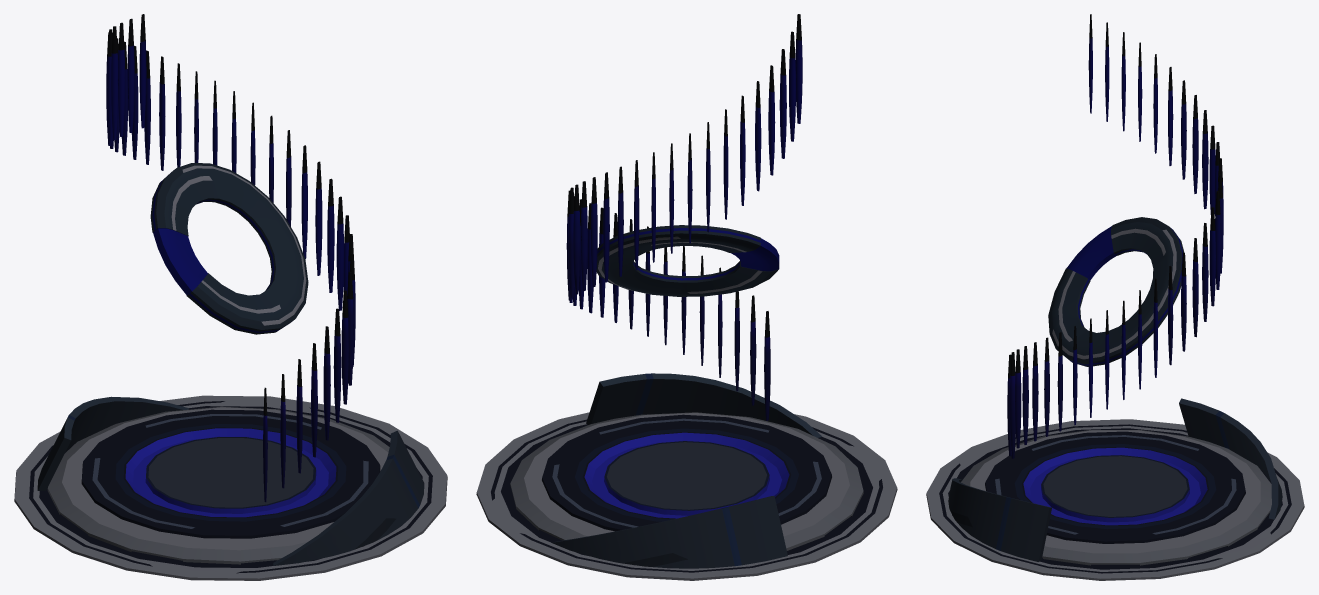
File: W_O_Landmark_001_L1.fbx
The picture shows the model from 3 angles, left to right: view 1: azimuth 30°, elevation 25°; view 2: azimuth 150°, elevation 25°; view 3: azimuth 270°, elevation 25°; orthographic projection. The views are drawn at different scales.
Parts seen in each view (by area): view 1: W_O_Landmark_001_L1; view 2: W_O_Landmark_001_L1; view 3: W_O_Landmark_001_L1.
Part boxes in pixels (x1,y1,x2,y2): W_O_Landmark_001_L1: [14, 14, 447, 580]; W_O_Landmark_001_L1: [476, 14, 897, 580]; W_O_Landmark_001_L1: [926, 14, 1304, 580].
Size of the model in its own units: 8.55 by 8.55 by 11.04.
